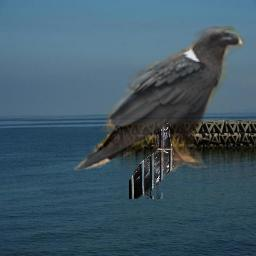Crow: (74, 26, 245, 177), (129, 123, 174, 199)
